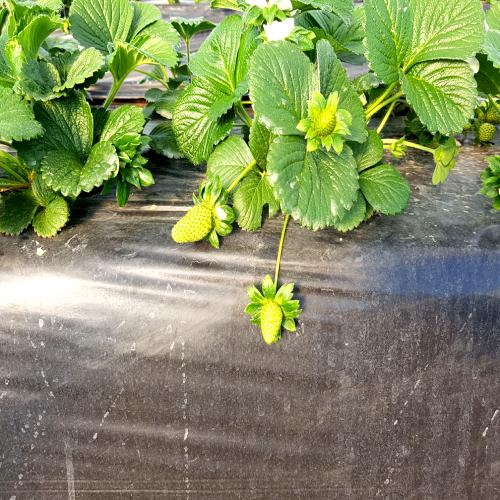unripe: (166, 195, 220, 255), (256, 297, 287, 351)
